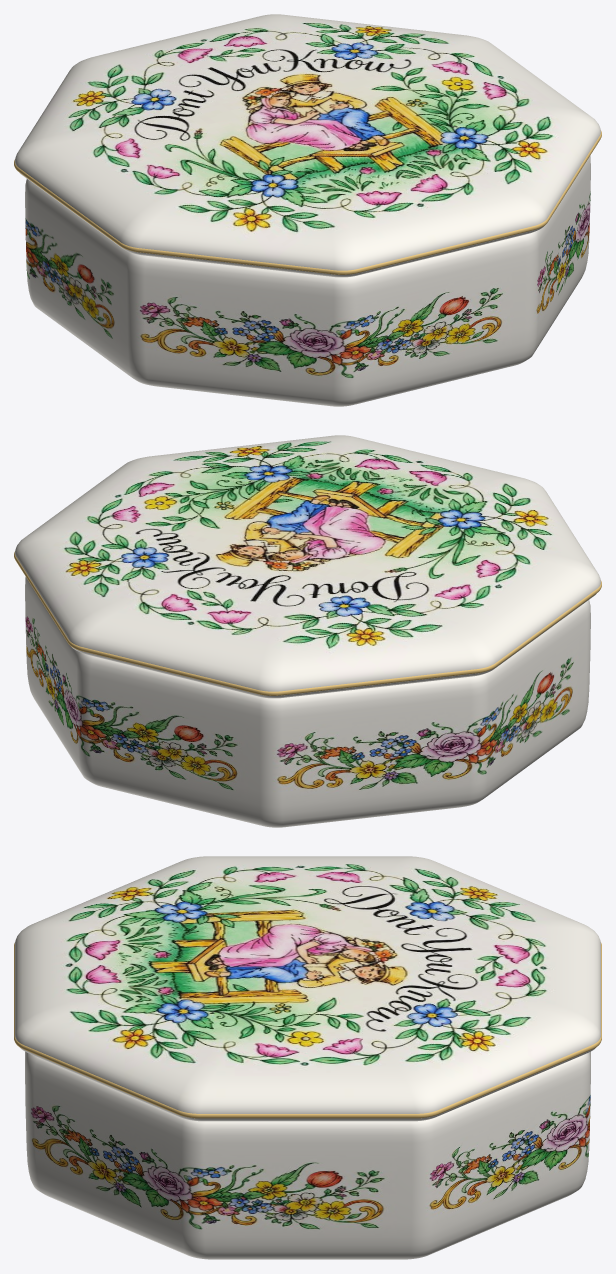
The model's file is octagonal-music-box-mobile.glb.
3 views of the same model, one above another, from view 1: azimuth 30°, elevation 25°; view 2: azimuth 150°, elevation 25°; view 3: azimuth 270°, elevation 25° (orthographic). The views are drawn at different scales.
Parts seen in each view (by area): view 1: MusicBox_Lid_Porcelain, MusicBox_Porcelain_Body, MusicBox_Lid_Gold_Rim; view 2: MusicBox_Lid_Porcelain, MusicBox_Porcelain_Body, MusicBox_Lid_Gold_Rim; view 3: MusicBox_Lid_Porcelain, MusicBox_Porcelain_Body, MusicBox_Lid_Gold_Rim.
Part boxes in pixels (x1,y1,x2,y2): MusicBox_Lid_Porcelain: (15, 14, 600, 277); MusicBox_Porcelain_Body: (25, 156, 590, 406); MusicBox_Lid_Gold_Rim: (14, 131, 601, 274); MusicBox_Lid_Porcelain: (15, 435, 600, 698); MusicBox_Porcelain_Body: (25, 577, 590, 827); MusicBox_Lid_Gold_Rim: (14, 552, 601, 695); MusicBox_Lid_Porcelain: (15, 856, 600, 1121); MusicBox_Porcelain_Body: (25, 1051, 590, 1259); MusicBox_Lid_Gold_Rim: (14, 943, 601, 1118).
Bounding box in the file's own units: 0.0983 × 0.0369 × 0.0983.
7 materials, 3 textured.
